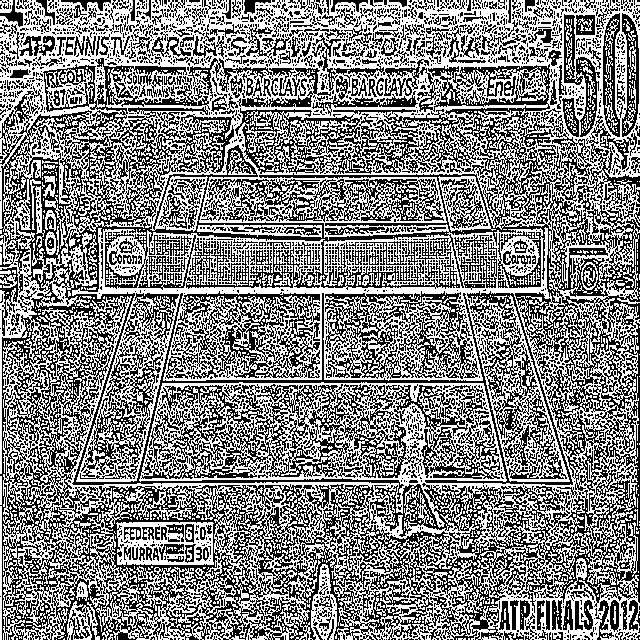left side: (74, 175, 208, 482), (437, 175, 570, 483)
player: (388, 382, 446, 538), (216, 94, 260, 176)
